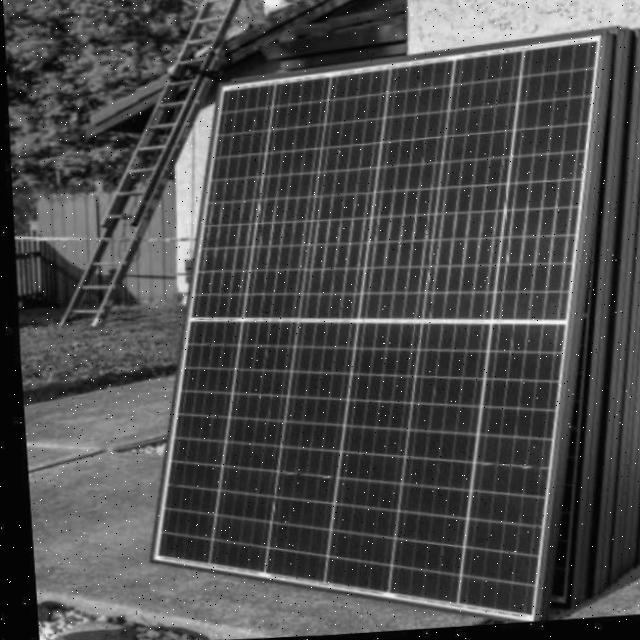Normal Solar Panel: (117, 33, 626, 640)
